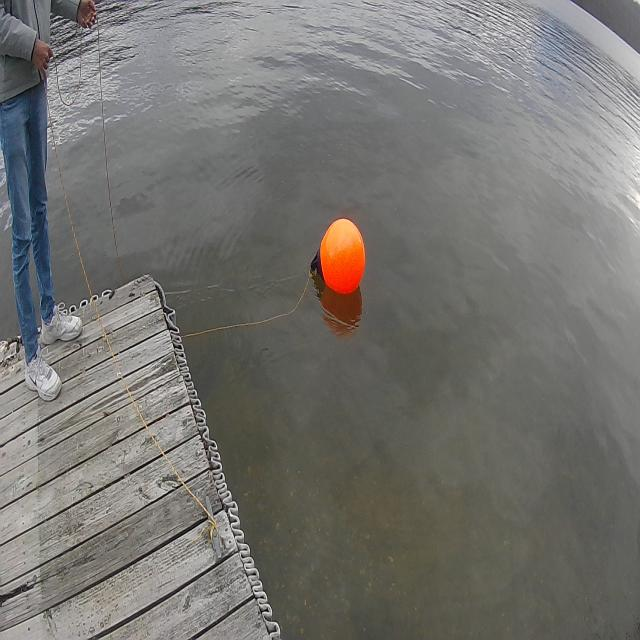Buoy: (315, 216, 368, 302)
